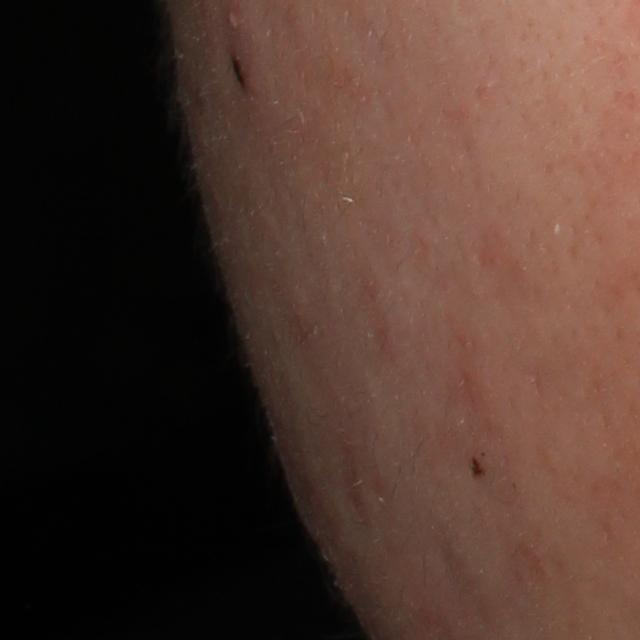nevus: (231, 52, 252, 96), (468, 456, 490, 481)
